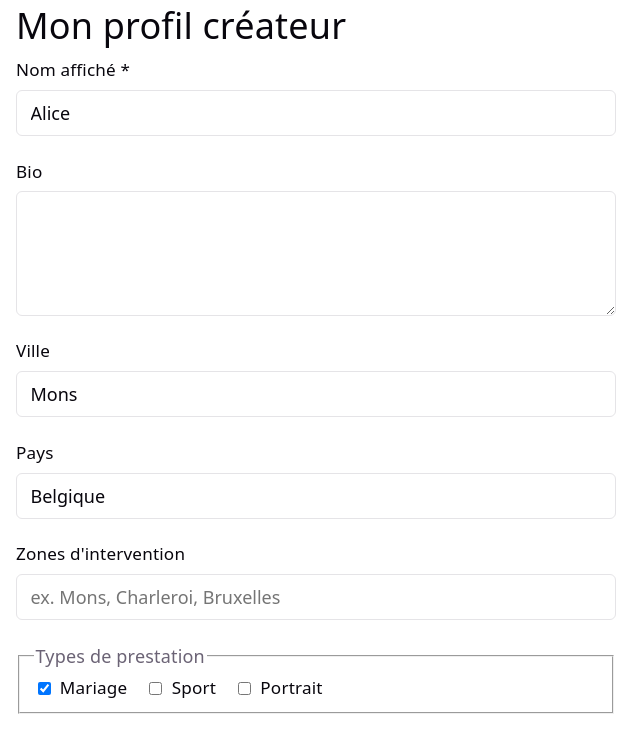
Test case: MonProfilCreateur : types de prestation (#87) › ne casse pas les cases à cocher si la réponse des types est inattendue
Click the checkbox labelled "Sport" at (156, 688), box x1=149 y1=682 x2=162 y2=694
(page scrolled)
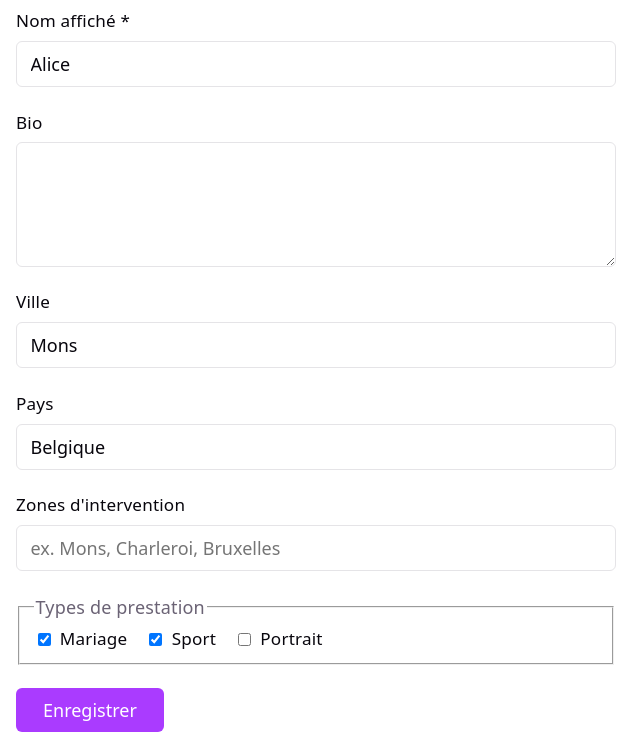
Click the button "Enregistrer" at (90, 710), box x1=16 y1=688 x2=164 y2=732
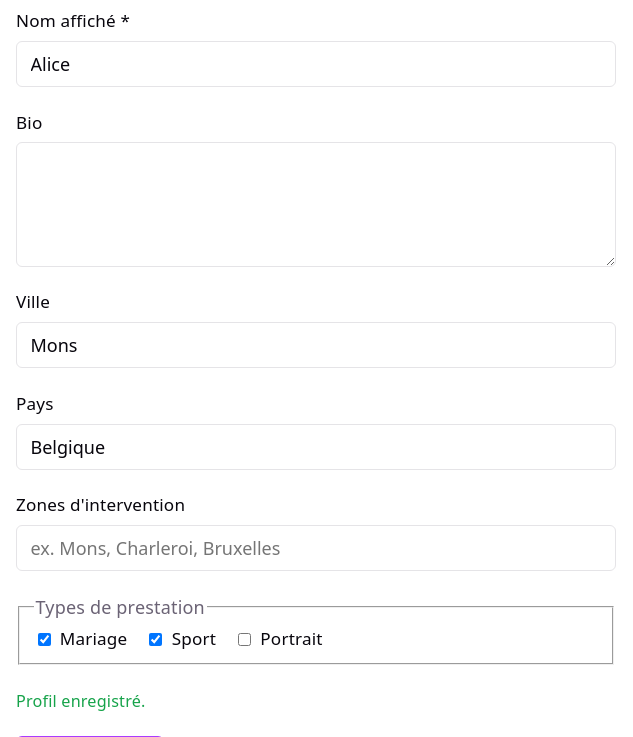
Now the checkbox labelled "Sport" is checked, box x1=149 y1=632 x2=162 y2=646
Now the text "Profil enregistré." is shown, box x1=16 y1=690 x2=146 y2=712
